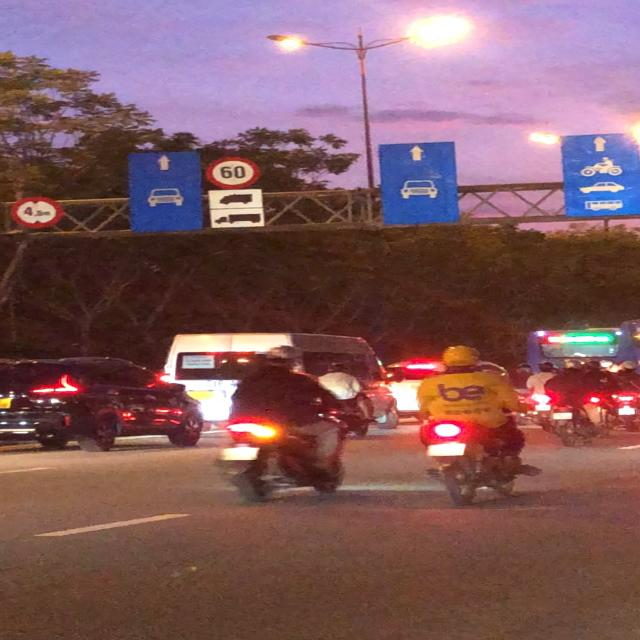Bien bao han che chieu cao: (7, 195, 61, 229)
Bien bao toc do toi da cho phep: (204, 156, 264, 191)
